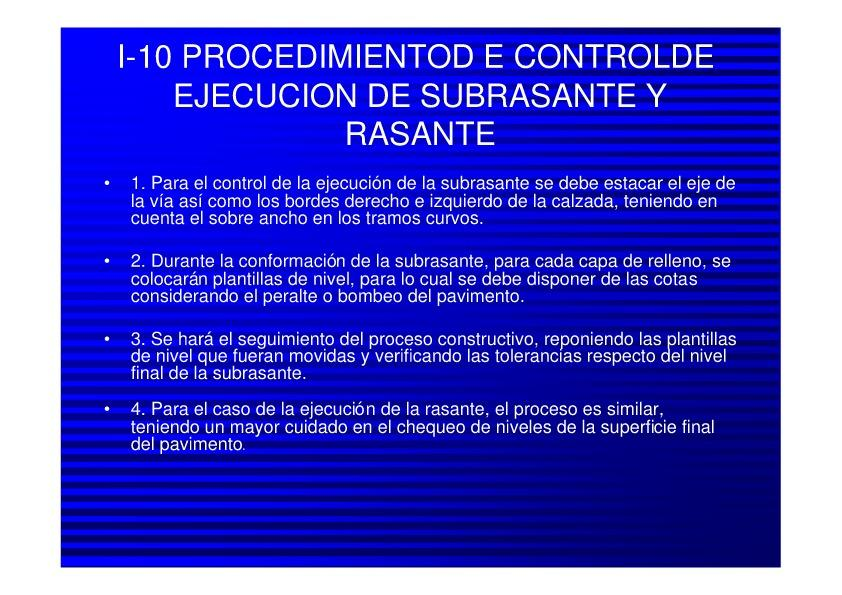paragraph: (93, 169, 747, 489)
title: (110, 30, 740, 162)
